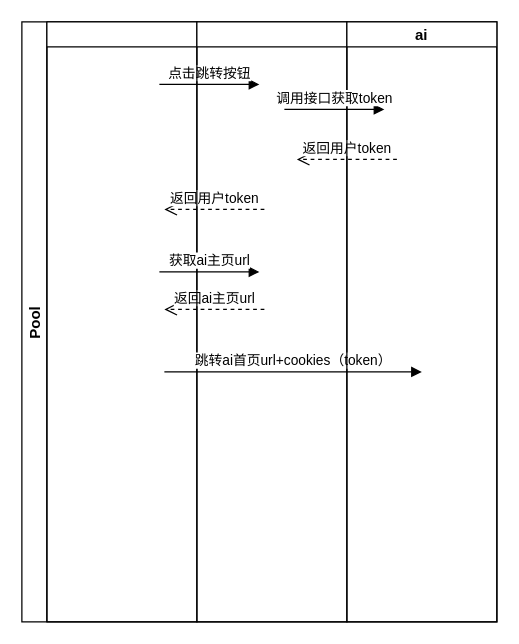
Some shapes in this 519 by 644 pixel diagram are drawn without their labels. Here are the shapes that lost their labels. From the top down, the centre of each, then its label:
At point 121,321: "web".
At point 271,321: "platform".
